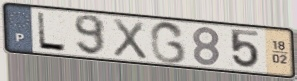5: (228, 28, 262, 70)
8: (191, 25, 222, 67)
9: (72, 13, 108, 58)
G: (149, 19, 188, 65)
L: (35, 10, 69, 53)
X: (111, 17, 149, 62)
